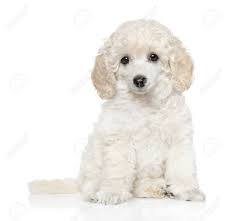Poodle: (54, 20, 214, 209)
